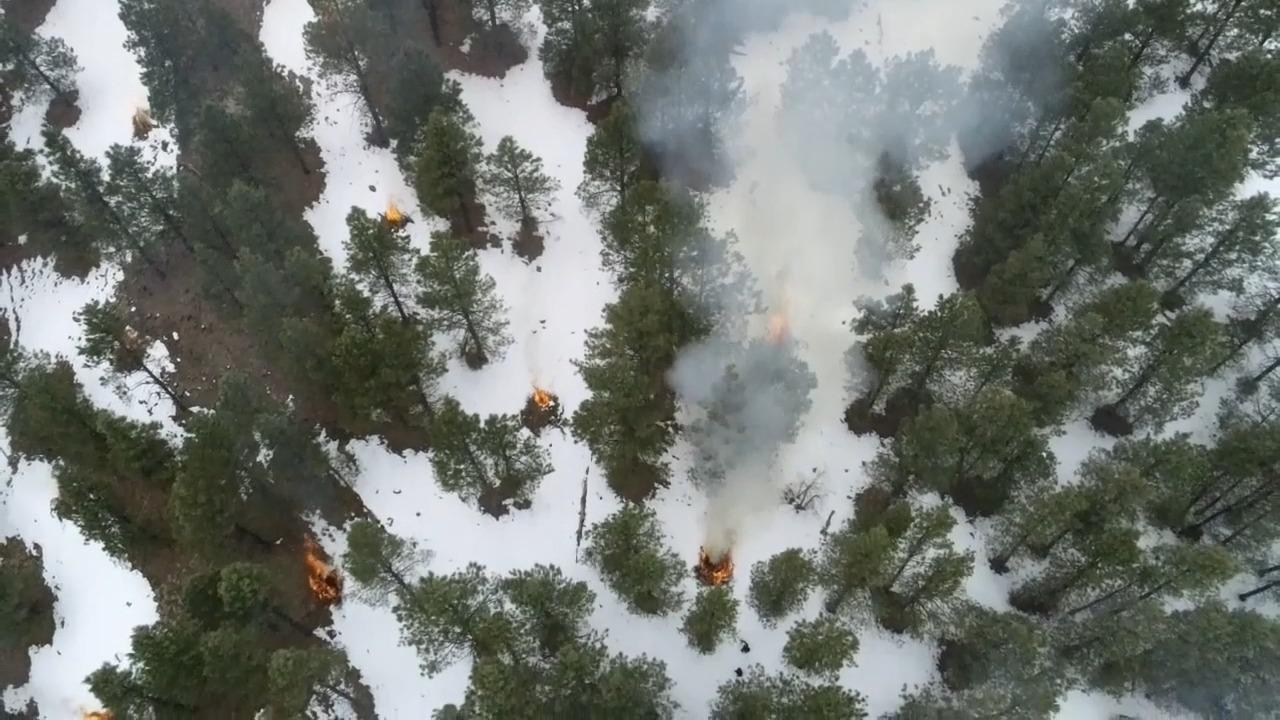fire: (298, 551, 338, 605), (695, 548, 738, 596), (527, 387, 558, 421), (377, 207, 406, 231)
smoke: (633, 0, 1088, 245), (671, 248, 908, 471)
